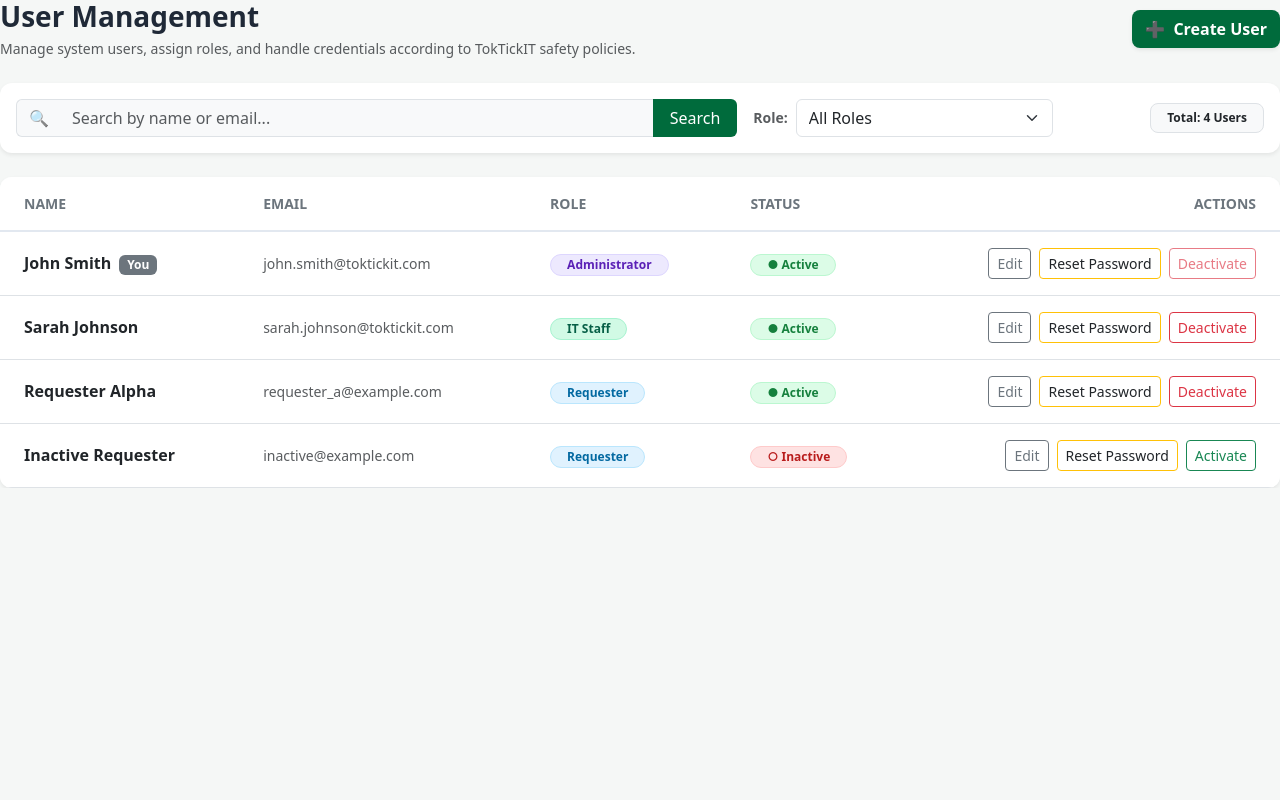
Test: UI-05: Admin User Management Component Tests › opens Reset Password modal and displays temporary password on success
The width and height of the screenshot is (1280, 800).
// Click Reset Password on user 2
Step 1. Click the button with test id "reset-pwd-btn-2" → (1100, 327), box [1040, 312, 1161, 343]
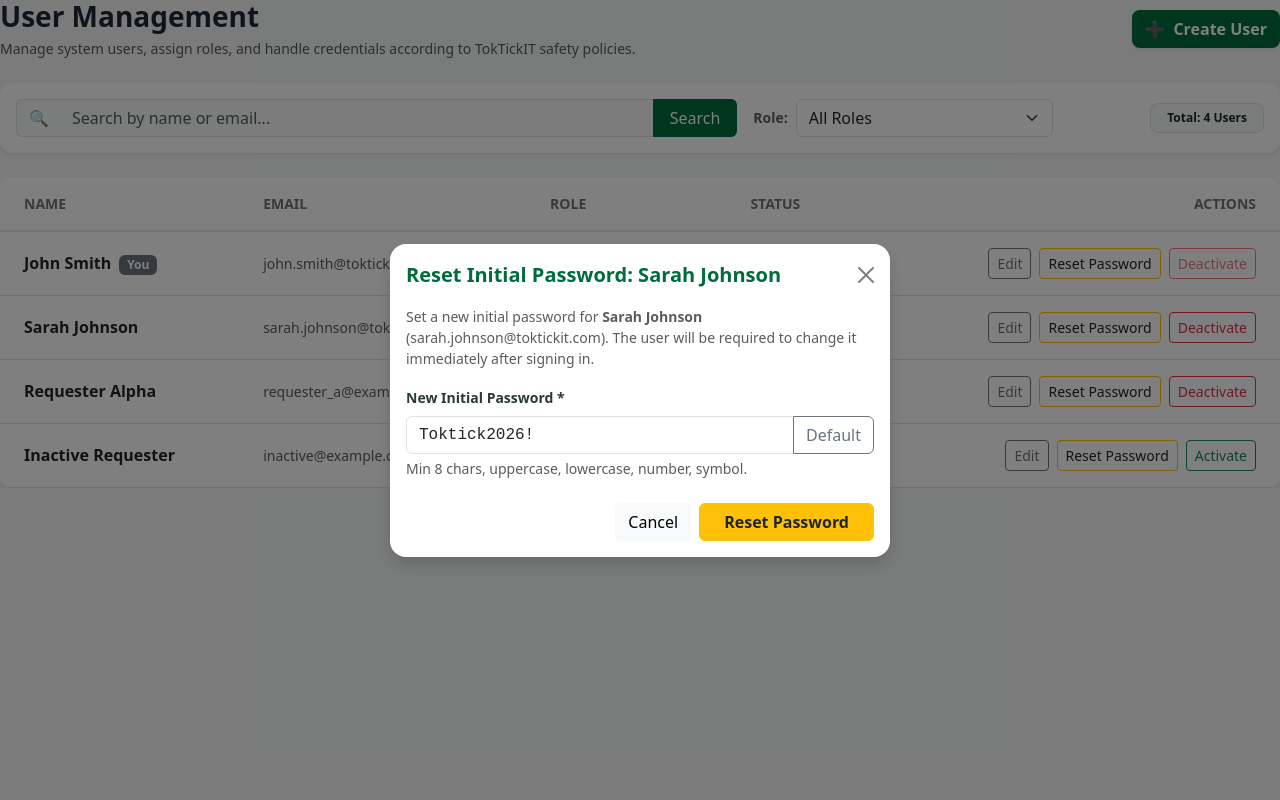
Now the heading "Reset Initial Password: Sarah Johnson" is shown, box [406, 260, 781, 290]
Step 2. Replace the text in the field with test id "reset-password-input" with "NewTemporaryPass2026!" → (600, 434), box [406, 416, 794, 454]
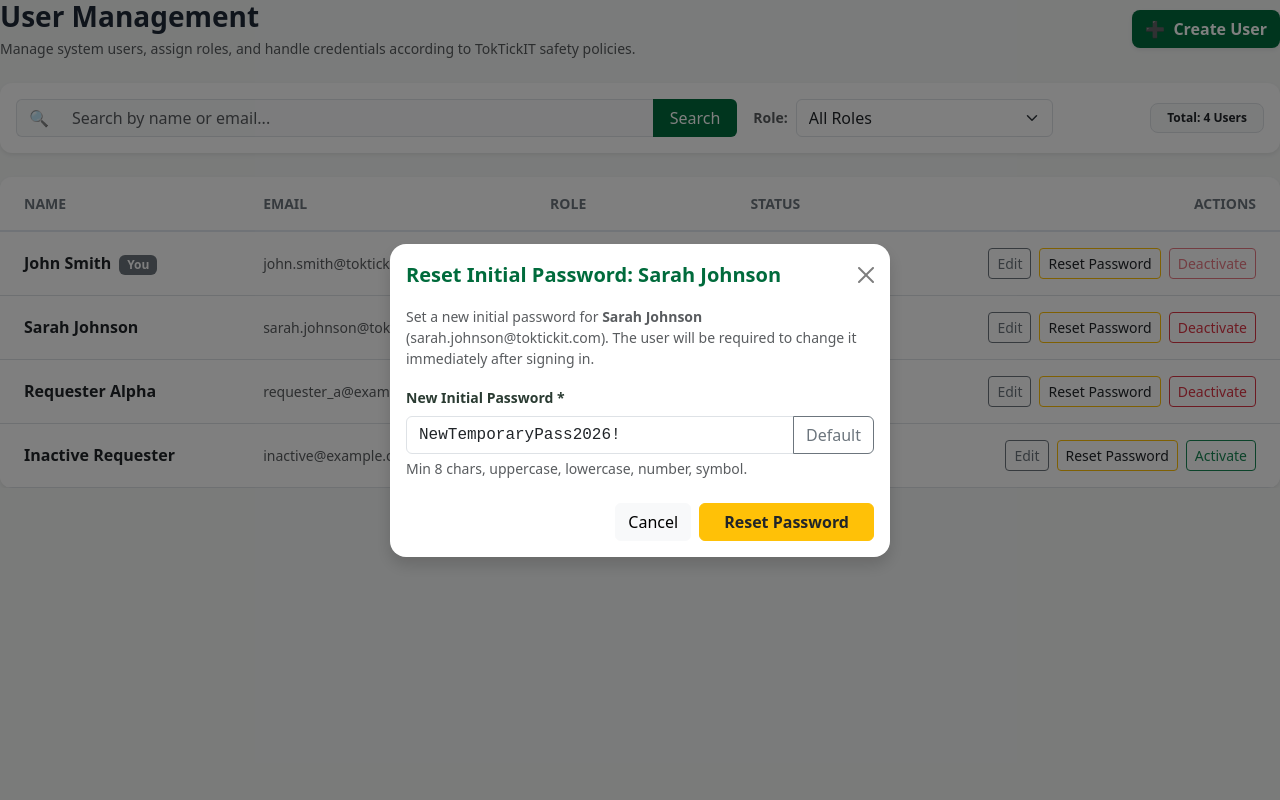
Step 3. Click the button with test id "reset-password-submit" → (787, 522), box [699, 502, 874, 540]
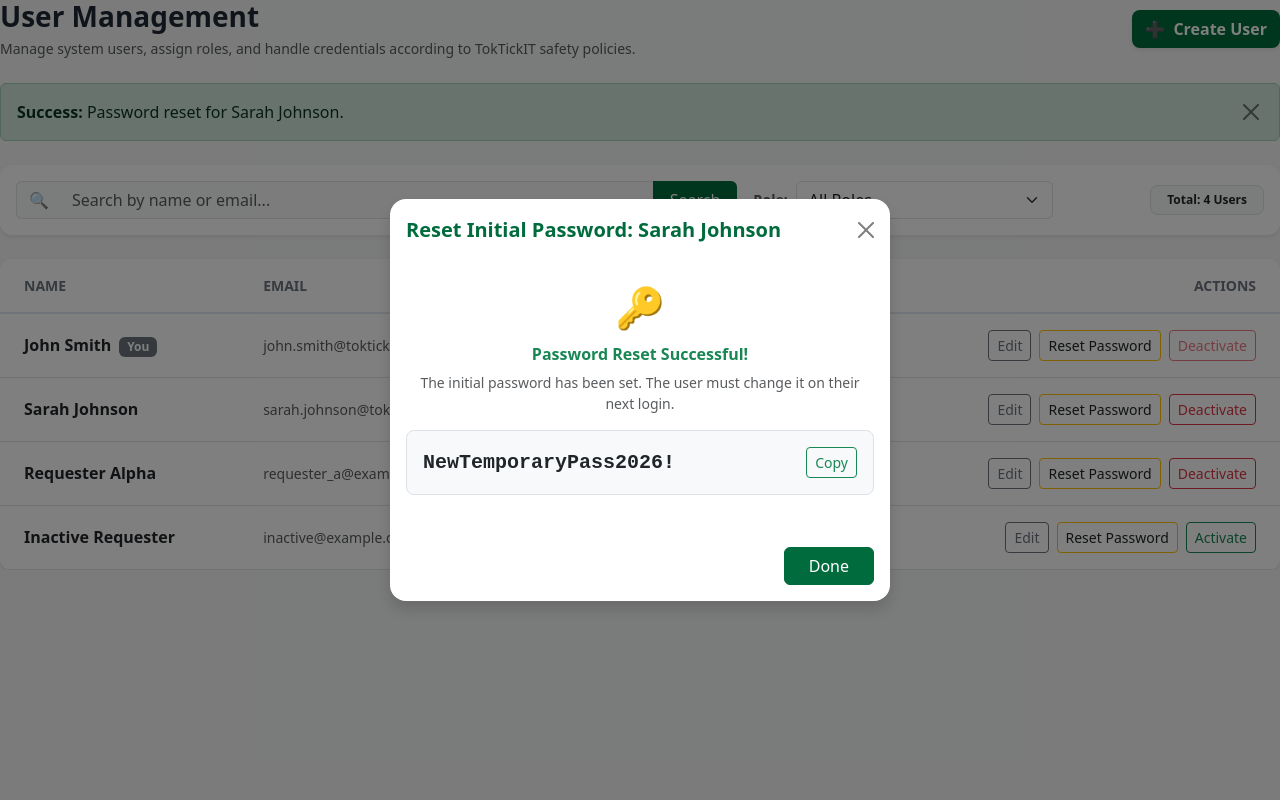
Now the text with test id "temp-password-display" reads "NewTemporaryPass2026!", box [423, 451, 675, 474]
